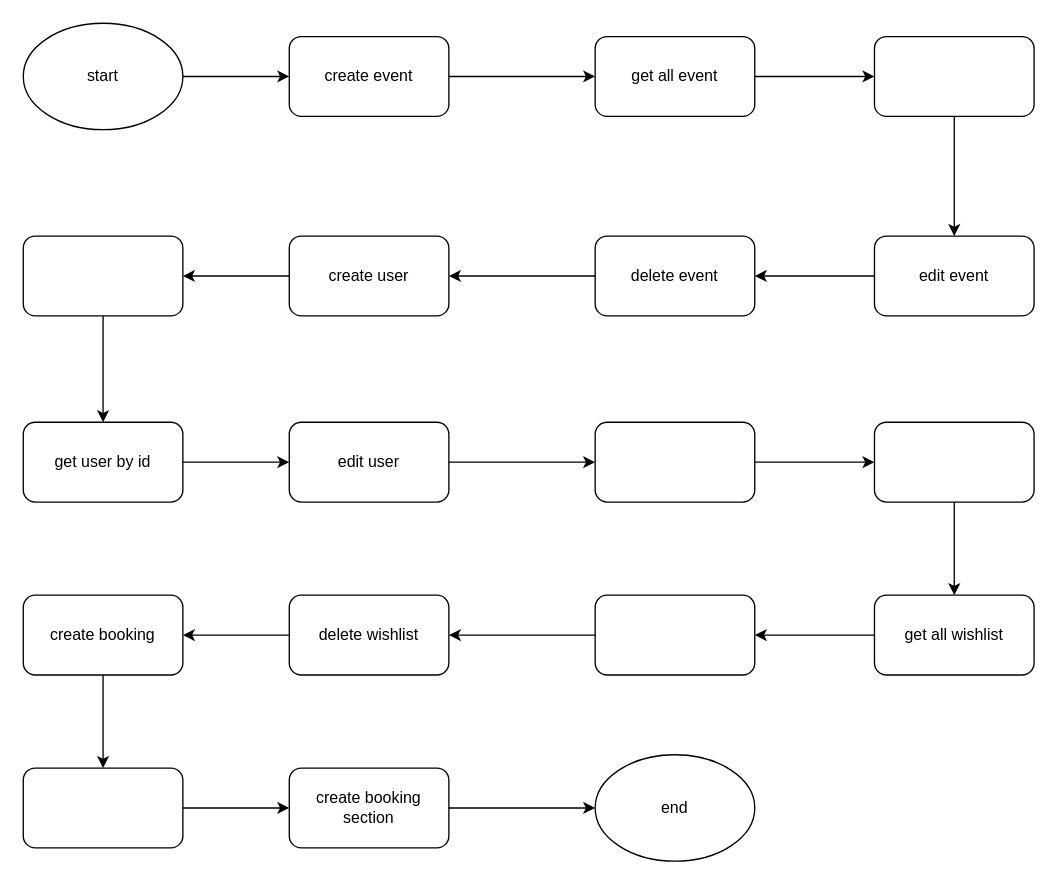
Image size: 1057x884. Some labels were removed from this diagram. Each missing label, with the box of its shape:
create wishlist: (873, 421, 1034, 502)
delete user: (594, 421, 755, 502)
get all user: (22, 235, 183, 316)
get booking by user id: (22, 767, 183, 848)
get event by id: (873, 35, 1034, 116)
get wishlist by id: (594, 594, 755, 675)
